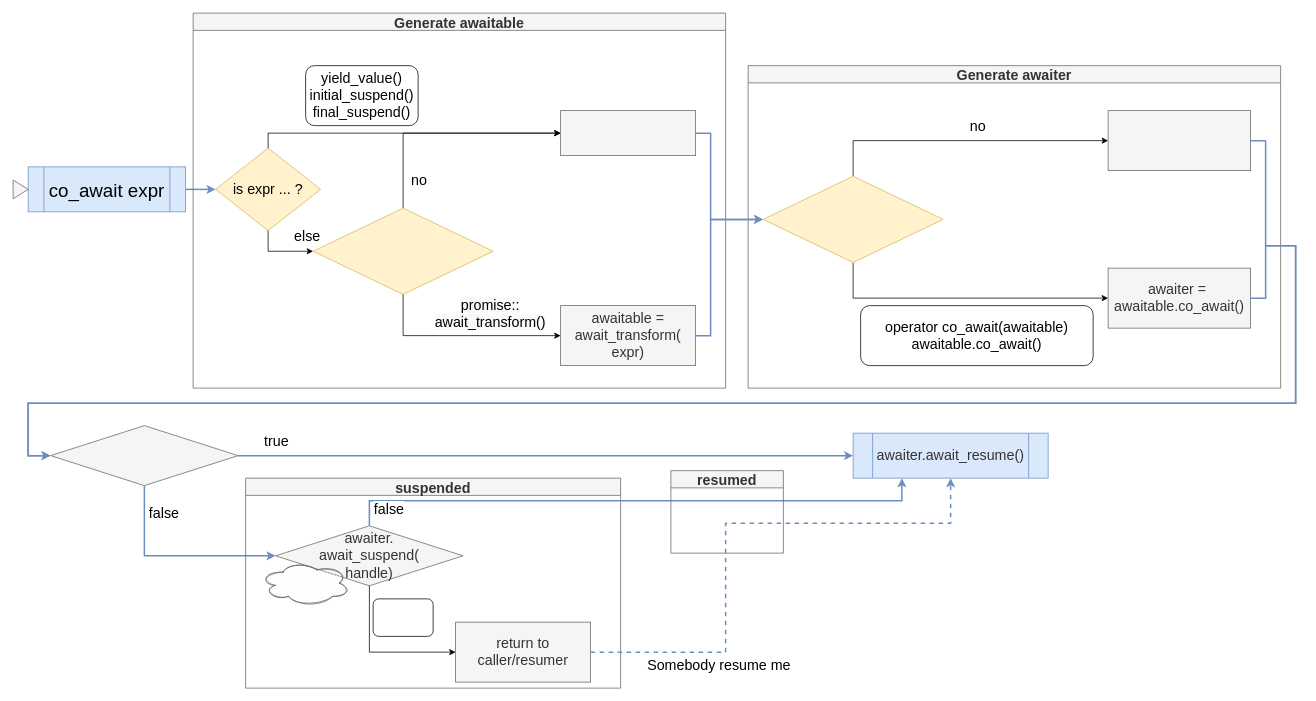
Image size: 1316x701. Some labels were removed from this diagram. Each missing label, with the box of its shape:
awaitable = expr: (560, 110, 696, 156)
awaiter = awaitable: (1107, 110, 1251, 171)
awaiter.await_ready() ?: (50, 425, 238, 486)
can expr transform?: (312, 207, 493, 294)
is operator co_await exists?: (762, 176, 943, 262)
schedule: (260, 560, 351, 605)
true void: (372, 598, 433, 636)
